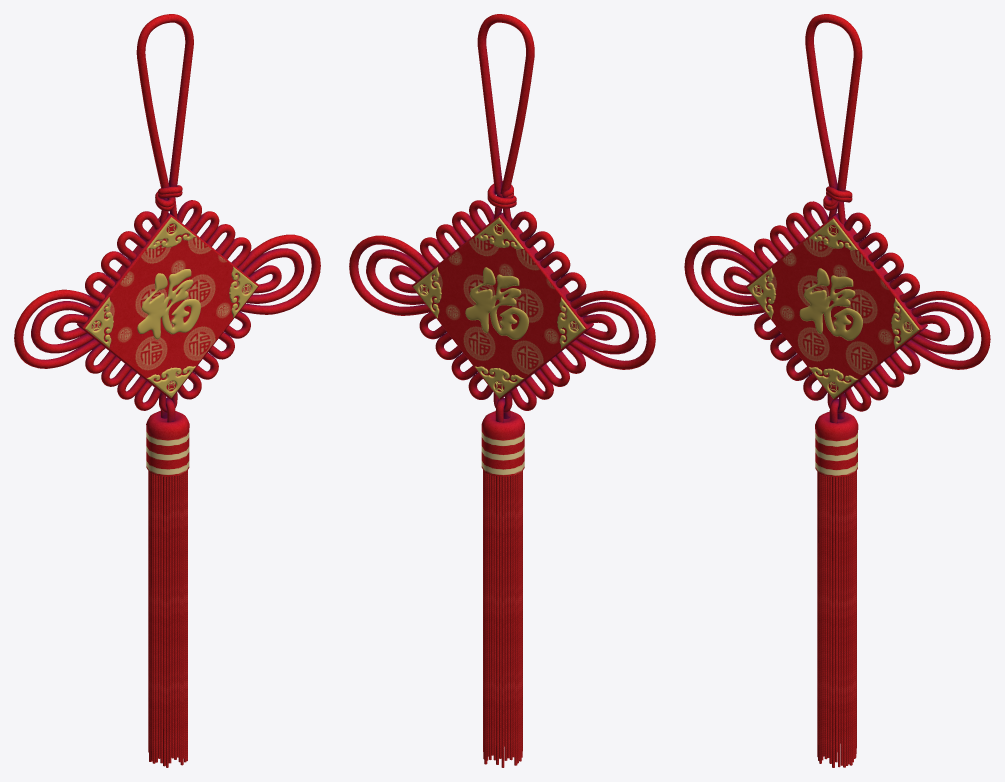
The model's file is Chinese Knotting 3D Model.glb.
3 renders of one model, left to right at view 1: azimuth 30°, elevation 25°; view 2: azimuth 150°, elevation 25°; view 3: azimuth 330°, elevation 25°, orthographic.
Parts seen in each view (by area): view 1: Line110_2; view 2: Line110_2; view 3: Line110_2.
Part boxes in pixels (<box>): Line110_2: <box>14,14,320,767</box>; Line110_2: <box>349,14,655,767</box>; Line110_2: <box>684,14,990,767</box>.
Bounding box in the file's own units: 53.89 × 126 × 6.65.
1 material, 1 textured.
